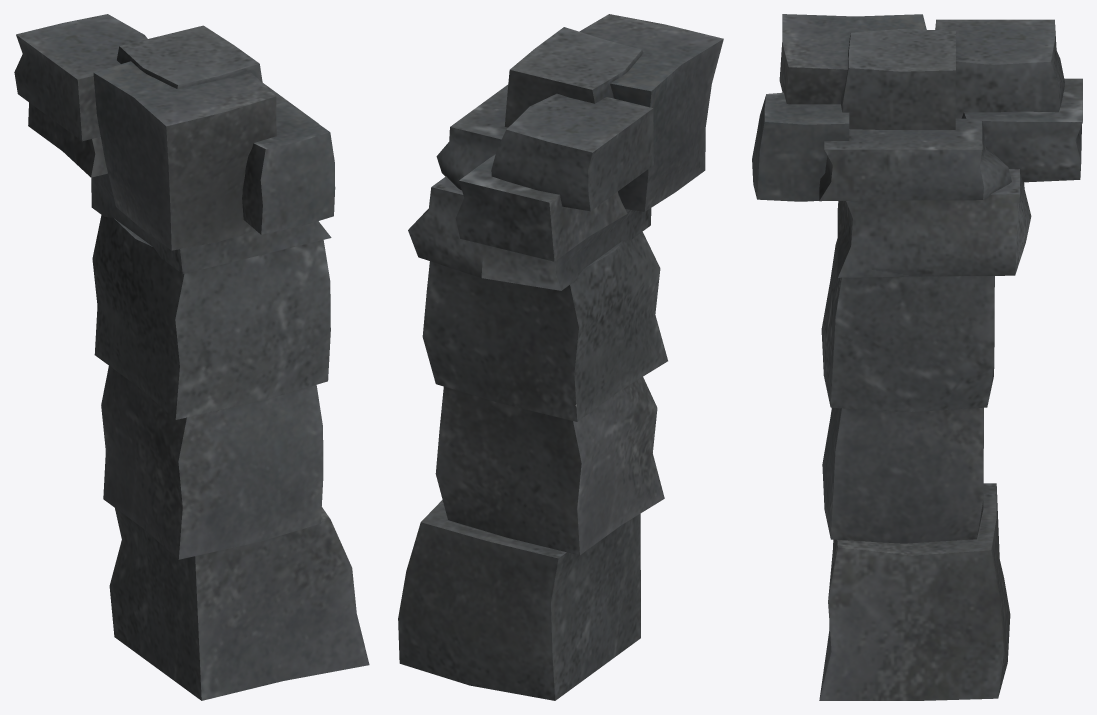
The model's file is ColumnObject.fbx.
The picture shows the model from 3 angles, left to right: view 1: azimuth 30°, elevation 25°; view 2: azimuth 150°, elevation 25°; view 3: azimuth 270°, elevation 25°; orthographic projection. The views are drawn at different scales.
Parts seen in each view (by area): view 1: PILLAR_Indi; view 2: PILLAR_Indi; view 3: PILLAR_Indi.
Part boxes in pixels (x1=…): PILLAR_Indi: x1=14, y1=14, x2=369, y2=700; PILLAR_Indi: x1=398, y1=14, x2=723, y2=700; PILLAR_Indi: x1=752, y1=14, x2=1082, y2=700.
Size of the model in its own units: 4.55 by 11.54 by 5.88.
Materials: 1 (1 with a texture image).
